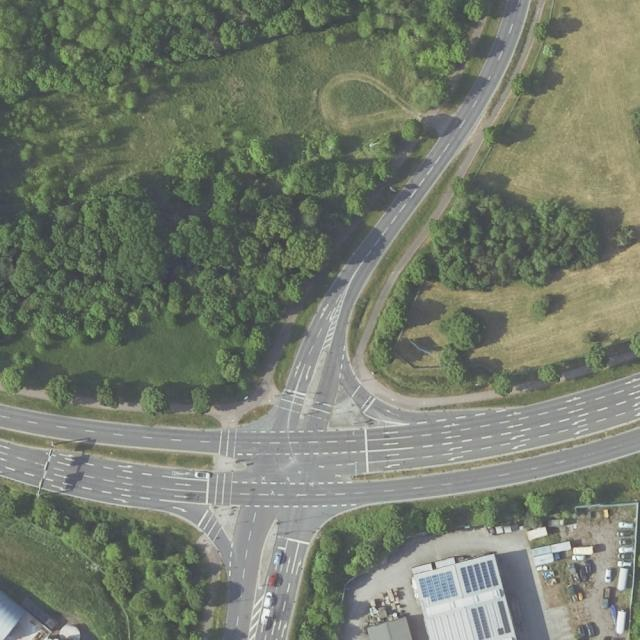PV: (460, 560, 500, 593), (418, 571, 457, 602), (470, 605, 492, 640), (496, 600, 512, 635)
